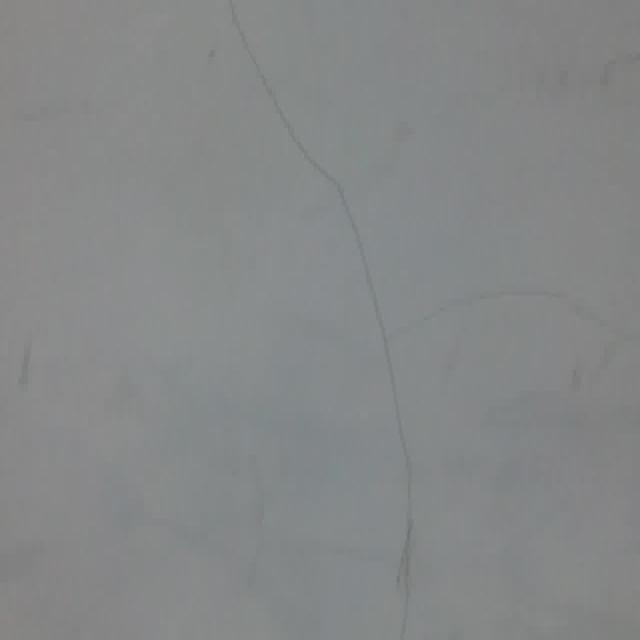Crack: (215, 0, 424, 640), (334, 252, 640, 370)
